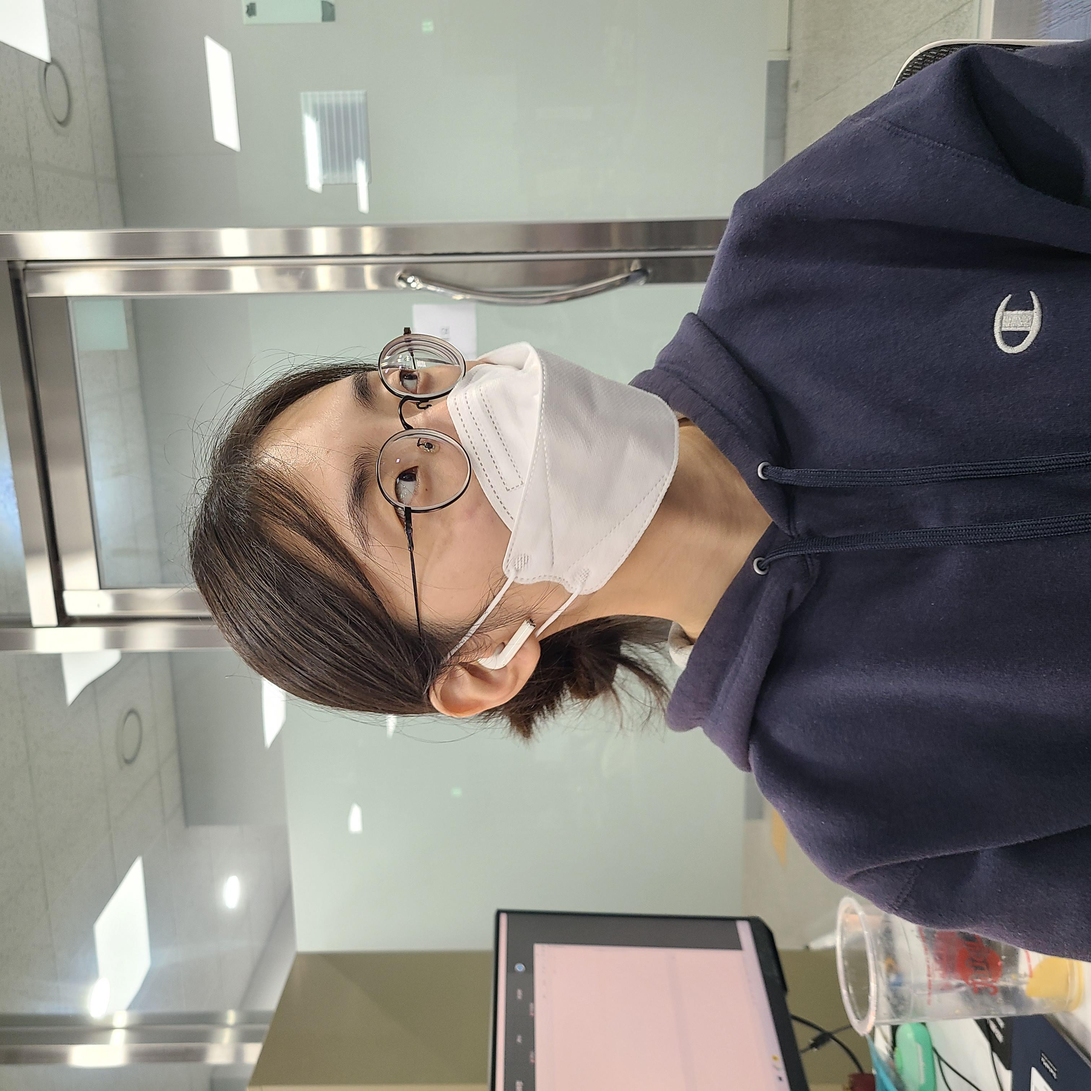earphone: (410, 473, 485, 544)
